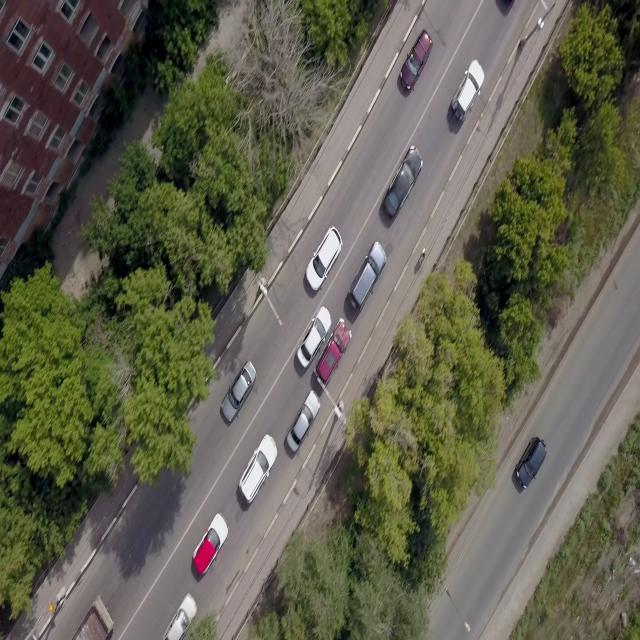vehicle: (382, 145, 424, 220), (238, 434, 278, 505), (348, 241, 387, 311), (191, 512, 229, 580), (314, 320, 352, 388), (306, 225, 342, 291), (220, 359, 256, 424), (284, 390, 320, 454), (296, 306, 332, 368), (399, 28, 433, 91), (451, 59, 485, 121), (66, 597, 115, 640), (515, 436, 547, 489), (164, 594, 198, 640), (420, 251, 426, 260)
